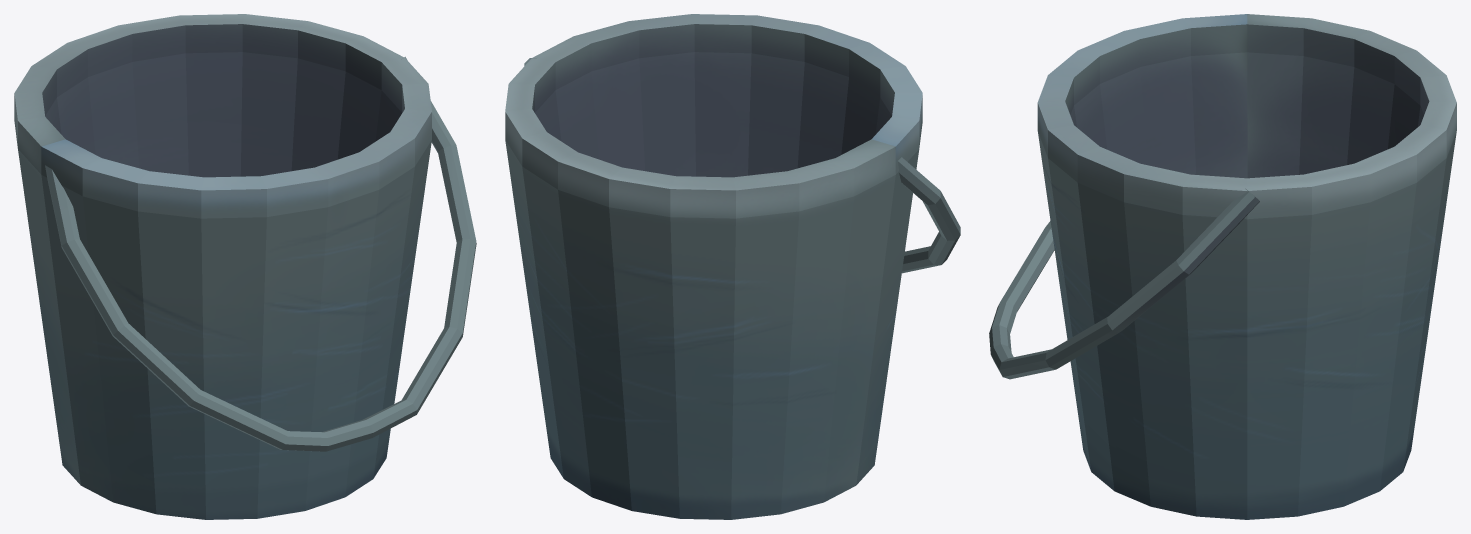
File: Bucket.fbx
The picture shows the model from 3 angles, left to right: view 1: azimuth 30°, elevation 25°; view 2: azimuth 150°, elevation 25°; view 3: azimuth 270°, elevation 25°; orthographic projection.
Parts seen in each view (by area): view 1: Cylinder; view 2: Cylinder; view 3: Cylinder.
Boxes of the visible parts, x1,y1,x2,y2 form: Cylinder: (14, 14, 476, 519); Cylinder: (505, 14, 960, 519); Cylinder: (989, 14, 1456, 519).
Bounding box in the file's own units: 83.41 × 70.54 × 85.55.
